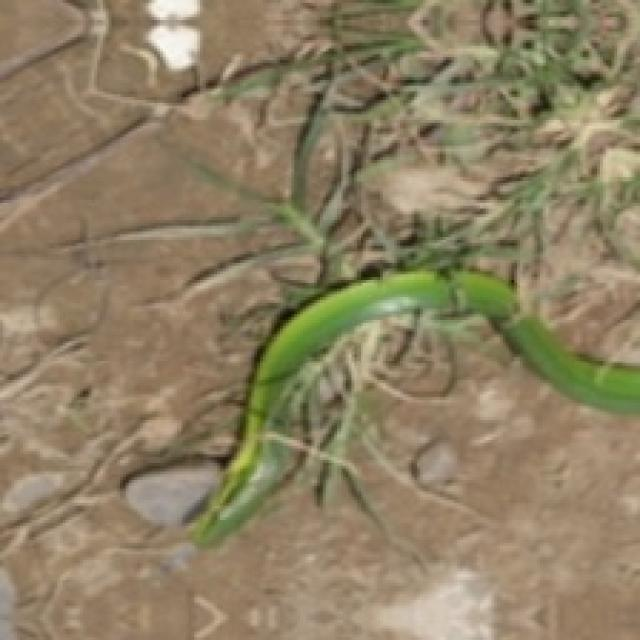red-tailed green ratsnake: (191, 271, 637, 543)
